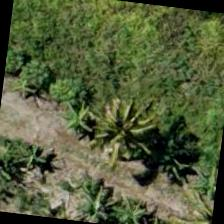Kelapa_Sawit: (78, 81, 178, 181)
